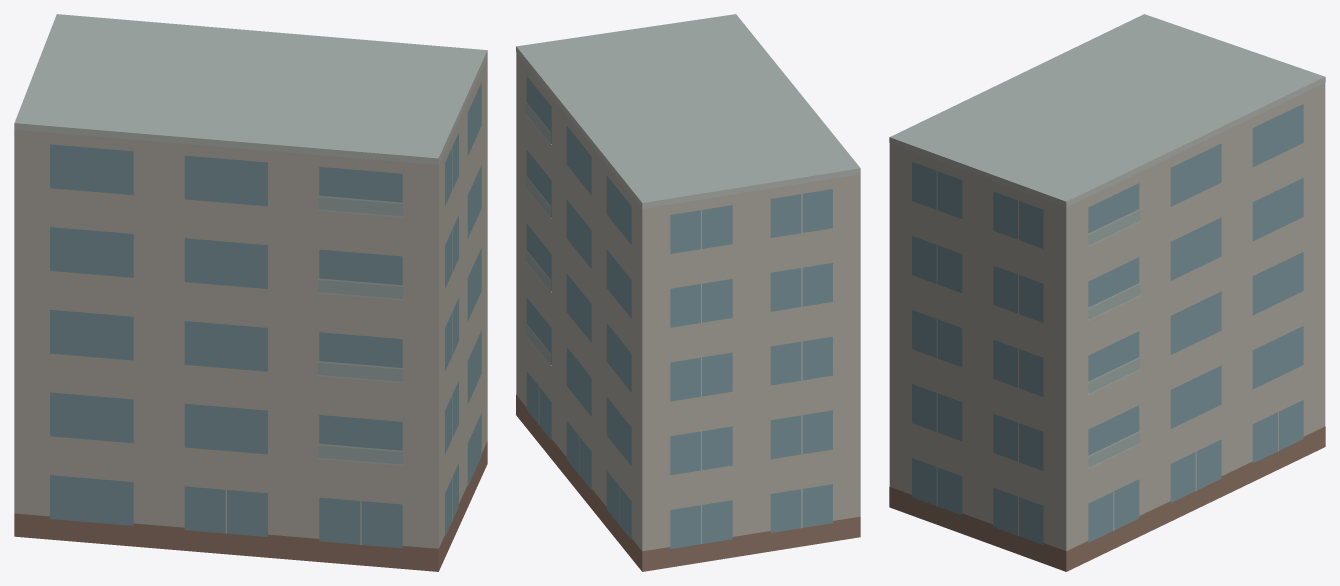
Rendered from survey-upis-32812673.glb.
3 views of the same model, side by side, from view 1: azimuth 30°, elevation 25°; view 2: azimuth 150°, elevation 25°; view 3: azimuth 270°, elevation 25° (orthographic). The views are drawn at different scales.
Parts seen in each view (by area): view 1: survey-upis-32812673.tmp; view 2: survey-upis-32812673.tmp; view 3: survey-upis-32812673.tmp.
Part boxes in pixels (x1,y1,x2,y2): survey-upis-32812673.tmp: (14,14,487,571); survey-upis-32812673.tmp: (516,14,860,571); survey-upis-32812673.tmp: (889,14,1325,571).
Size of the model in its own units: 16.65 by 15.3 by 16.33.
